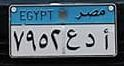2: (49, 27, 62, 52)
5: (38, 32, 48, 49)
7: (12, 29, 24, 53)
9: (25, 29, 37, 54)
ain: (65, 28, 81, 54)
alif: (101, 27, 111, 52)
daal: (82, 31, 96, 50)
